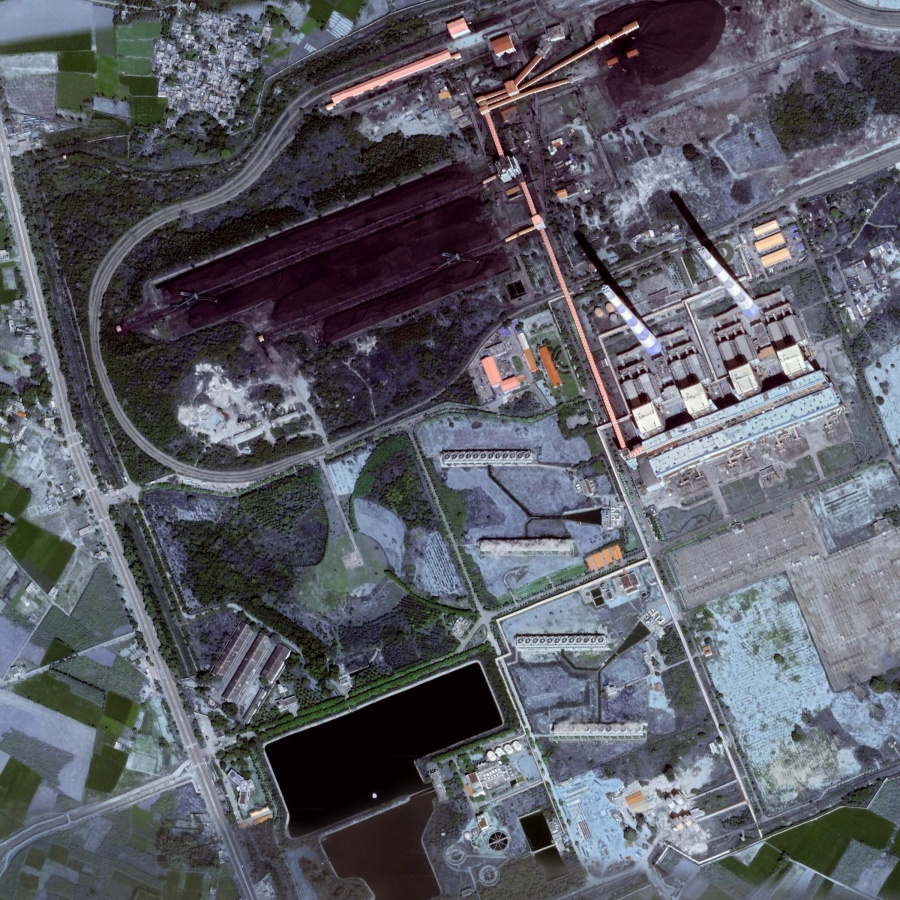PowerPlant: (244, 653, 514, 881), (563, 183, 800, 388)
